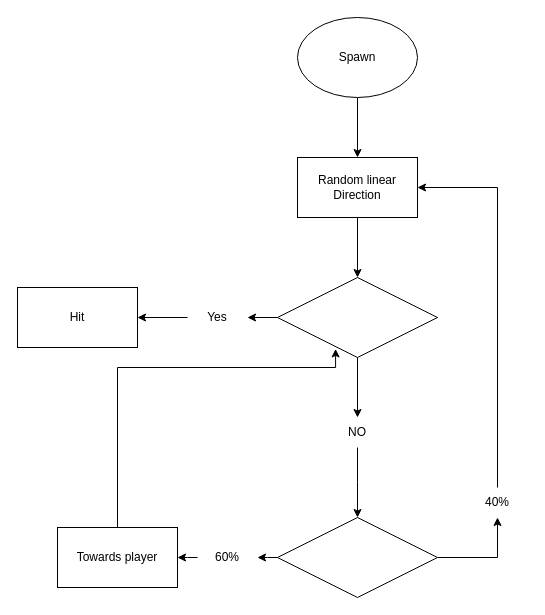
Image size: 545x615. Some labels were removed from this diagram. The box of each missing label's shape, as (x1, y1, x2, y2) in pixels:
Random Behaviour: (276, 516, 438, 598)
Touch player Collider?: (276, 276, 438, 358)
